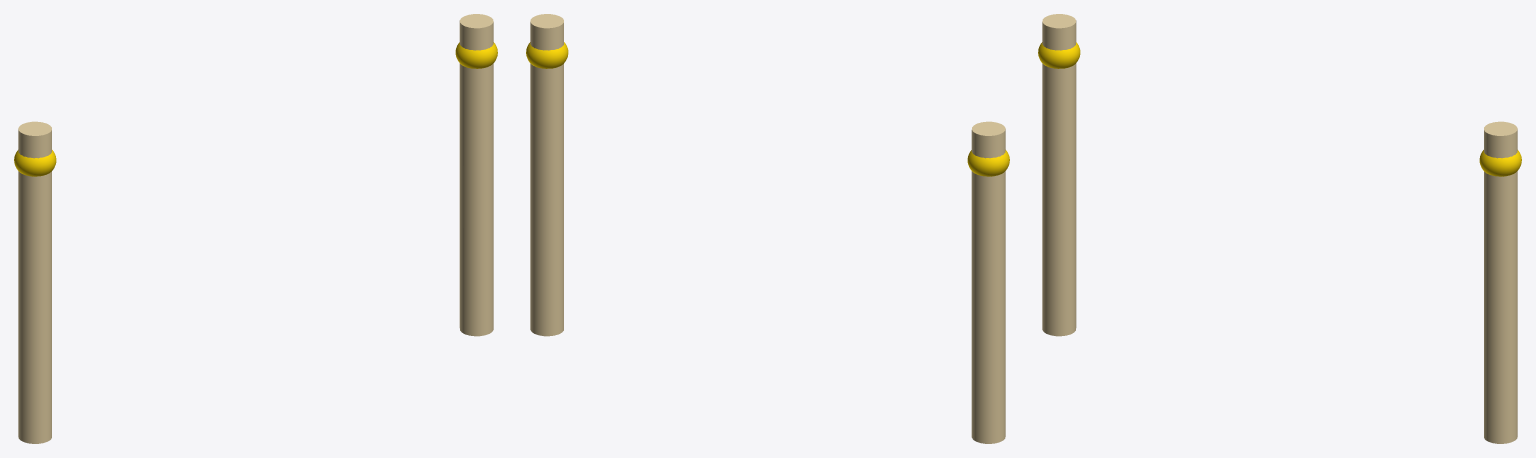
Rendered from slingshot-native.glb.
The picture shows the model from 3 angles, left to right: view 1: azimuth 30°, elevation 25°; view 2: azimuth 150°, elevation 25°; view 3: azimuth 330°, elevation 25°; orthographic projection.
Parts seen in each view (by area): view 1: stick (×2), knot (×2); view 2: stick (×2), knot (×2); view 3: stick (×2), knot (×2).
Boxes of the visible parts, left/top/right/bottom form: stick (×2): left=18, top=14, right=493, bottom=443; knot (×2): left=14, top=42, right=497, bottom=176; stick (×2): left=530, top=14, right=1005, bottom=443; knot (×2): left=526, top=42, right=1009, bottom=176; stick (×2): left=1042, top=14, right=1517, bottom=443; knot (×2): left=1038, top=42, right=1521, bottom=176.
Size of the model in its own units: 3.25 by 2 by 0.25.
